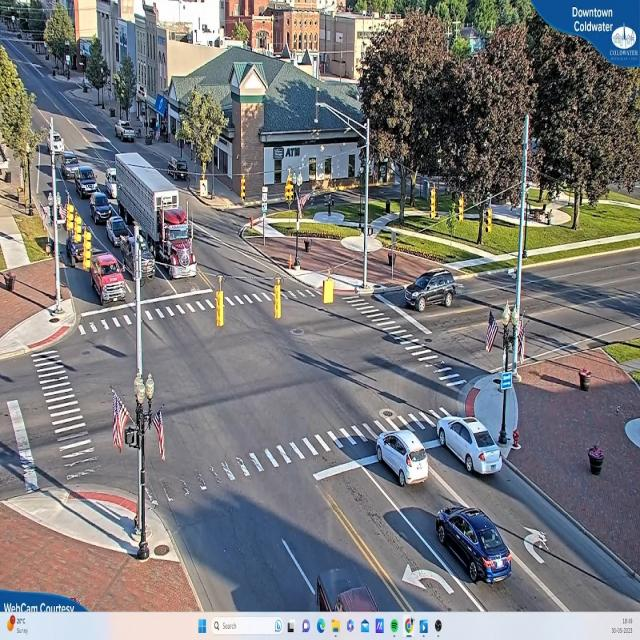car: (433, 507, 512, 587), (437, 415, 504, 476), (375, 428, 431, 487), (406, 271, 459, 312), (89, 251, 129, 301), (121, 234, 156, 280), (66, 225, 94, 266), (108, 216, 136, 245), (90, 194, 113, 222), (77, 164, 97, 194), (116, 123, 138, 143)
truck: (141, 169, 199, 293)
